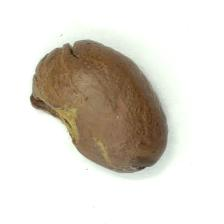NG: (28, 86, 80, 148)
